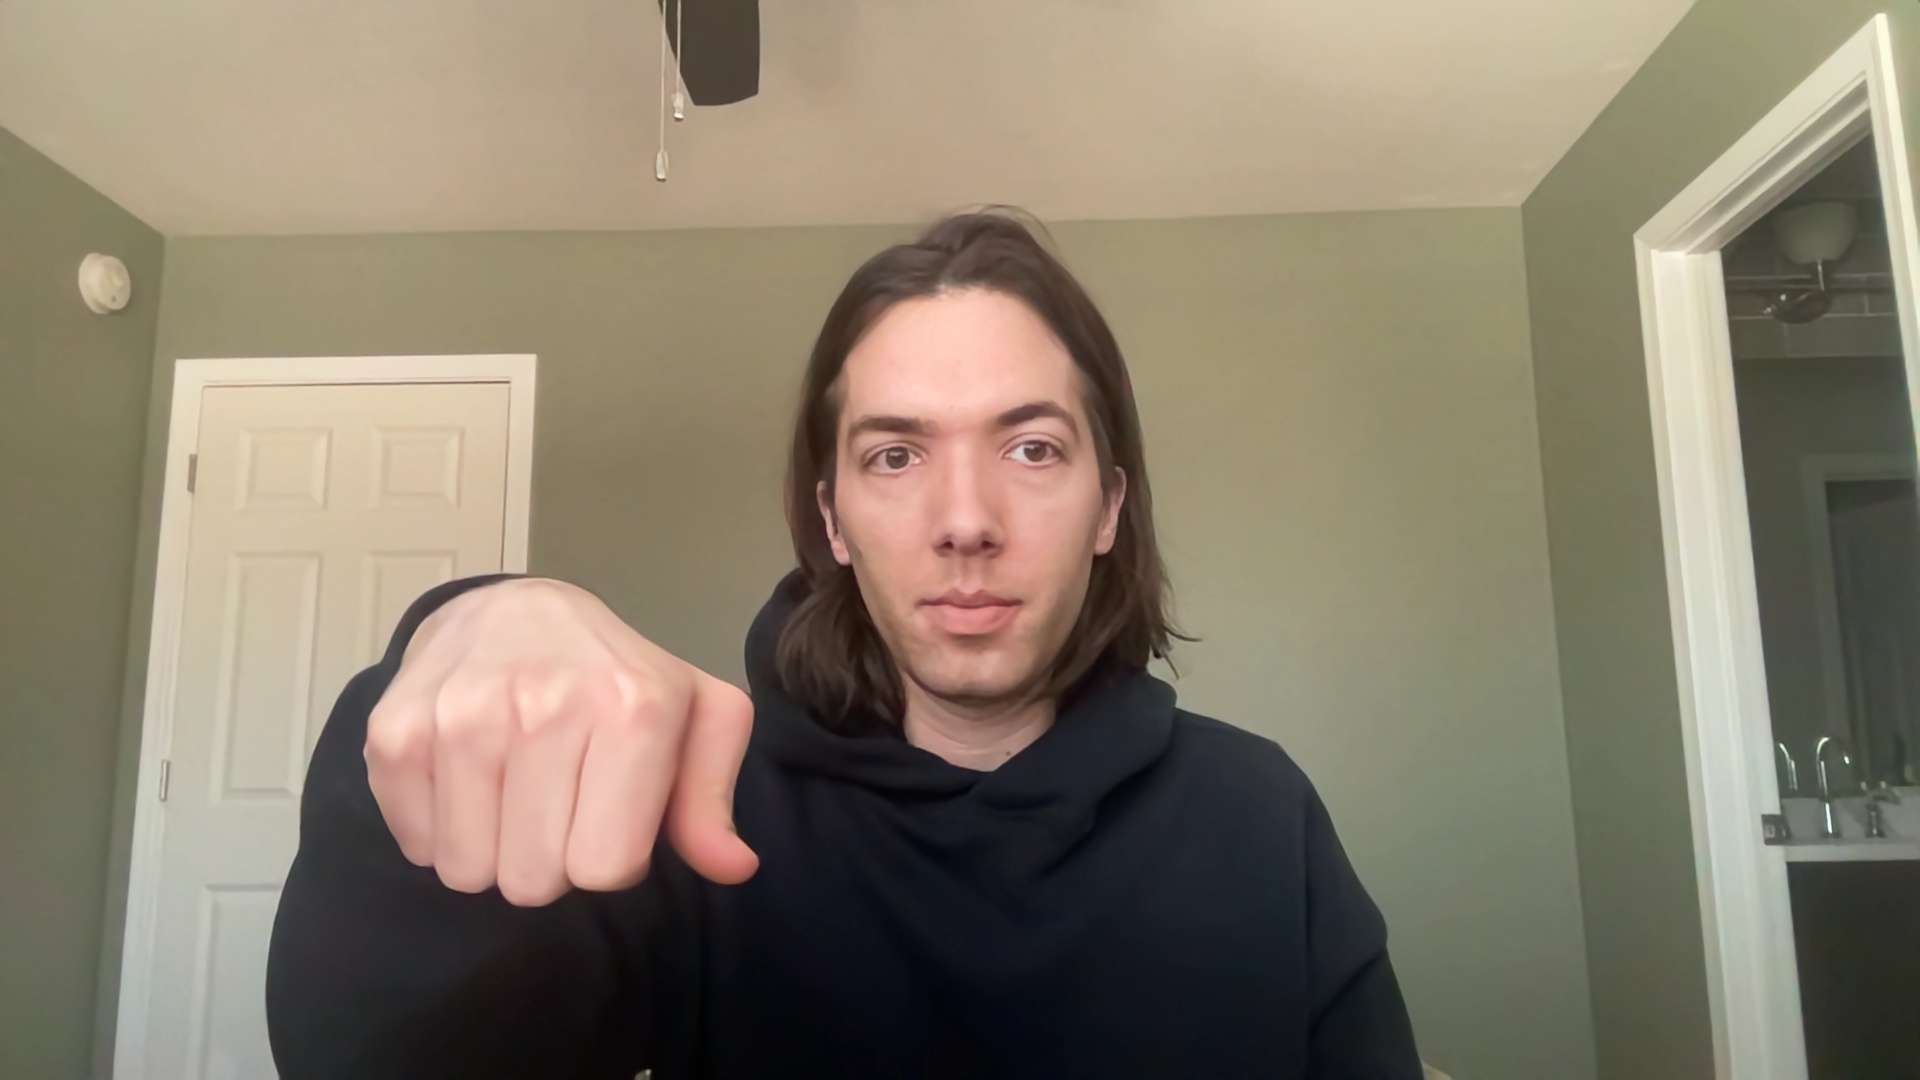Yes: (347, 560, 785, 934)
